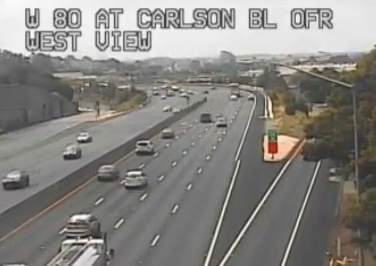car: (67, 214, 101, 235), (124, 170, 147, 189), (97, 165, 117, 180), (135, 140, 153, 154)
